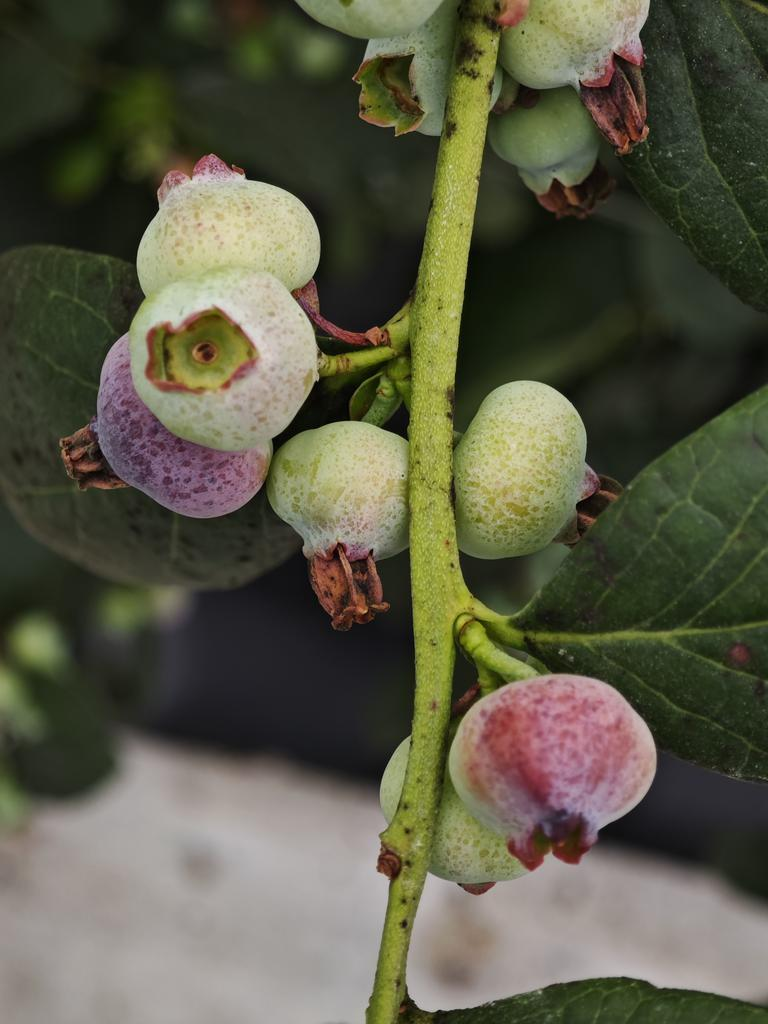Semi-RipeBlueBerry: (453, 660, 661, 849)
UnripeBlueBerry: (126, 270, 333, 433), (136, 166, 336, 310), (457, 370, 594, 559)
